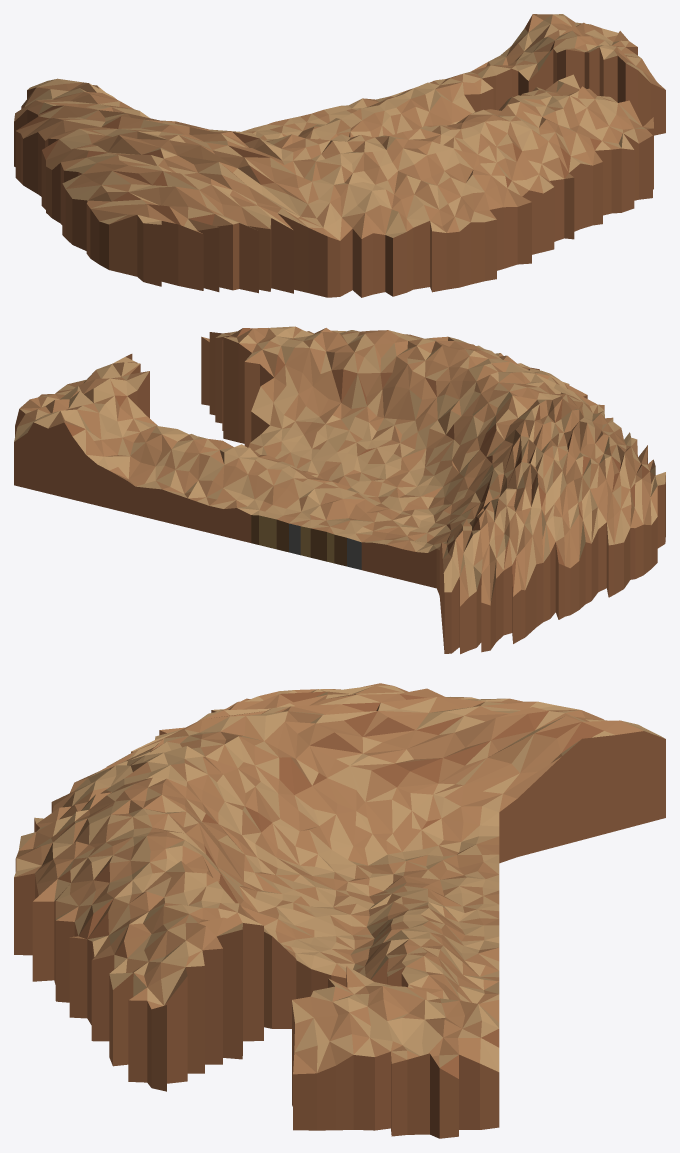
The model's file is nose_rise.glb.
3 views of the same model, one above another, from view 1: azimuth 30°, elevation 25°; view 2: azimuth 150°, elevation 25°; view 3: azimuth 270°, elevation 25° (orthographic). The views are drawn at different scales.
Parts seen in each view (by area): view 1: nose_rise; view 2: nose_rise; view 3: nose_rise.
Part boxes in pixels (box(x1,y1,x2,y2)): nose_rise: box(14, 14, 665, 297); nose_rise: box(14, 326, 665, 654); nose_rise: box(14, 683, 665, 1138).
Size of the model in its own units: 372 by 70.79 by 282.
